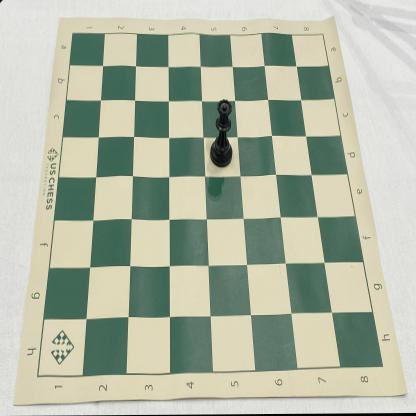black-queen: (210, 100, 234, 170)
